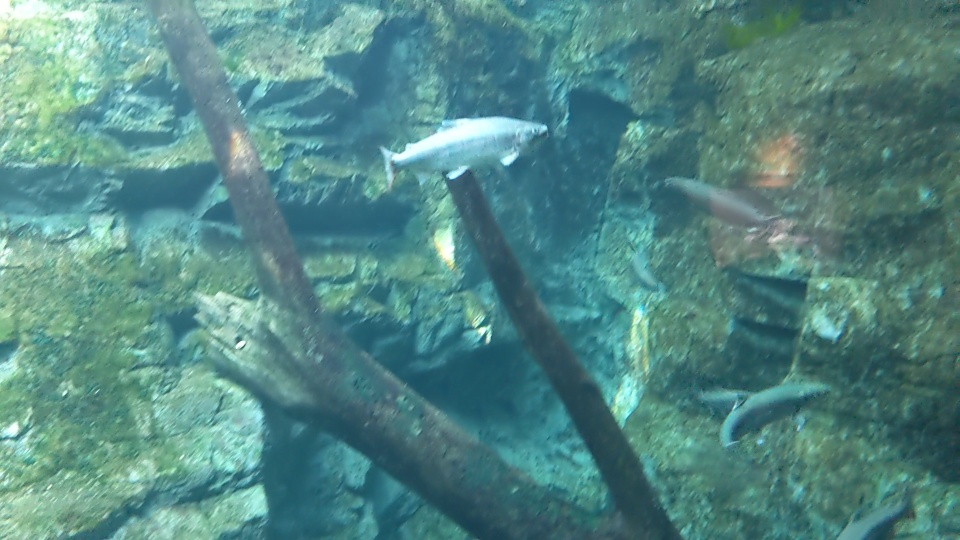Fish: (377, 111, 545, 192), (720, 371, 828, 457), (648, 164, 775, 228), (832, 481, 910, 540), (615, 251, 657, 295), (684, 382, 757, 404)
